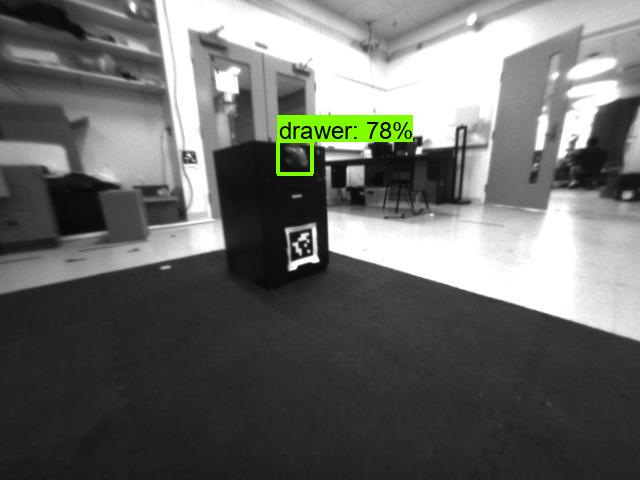drawer: (278, 142, 312, 175)
